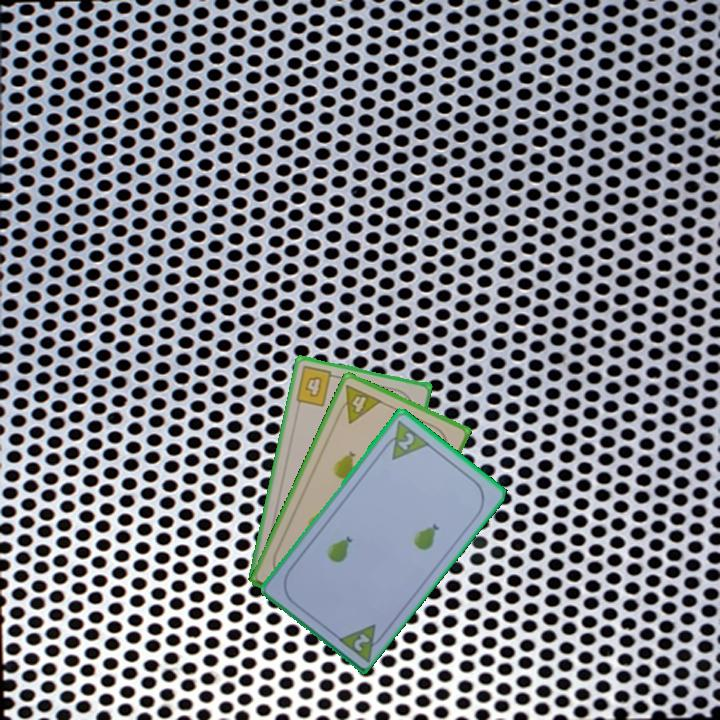2p: (378, 416, 432, 462), (350, 629, 373, 654)
4b: (292, 362, 341, 409)
4p: (333, 381, 385, 426)
